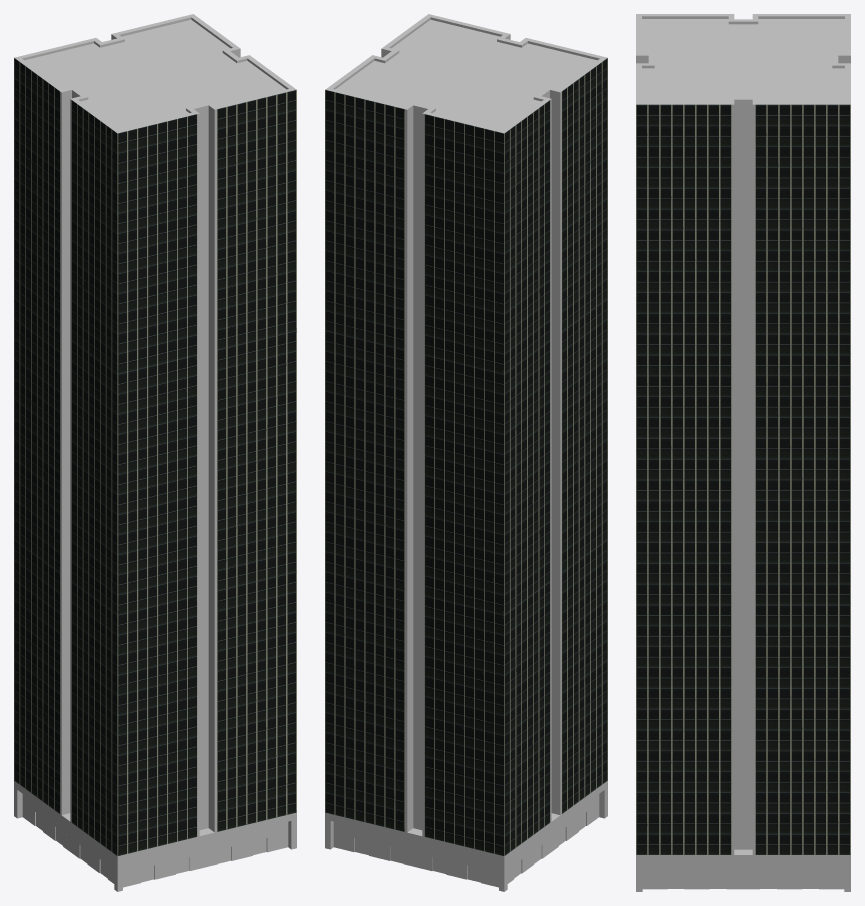
3 renders of one model, left to right at view 1: azimuth 30°, elevation 25°; view 2: azimuth 150°, elevation 25°; view 3: azimuth 270°, elevation 25°, orthographic. The views are drawn at different scales.
Parts seen in each view (by area): view 1: EC-041; view 2: EC-041; view 3: EC-041.
Part boxes in pixels (x1,y1,x2,y2): EC-041: (14, 14, 296, 891); EC-041: (325, 14, 607, 891); EC-041: (636, 14, 850, 891).
Size of what is drawn, in the model's own units: 32.6 by 132 by 32.6.
